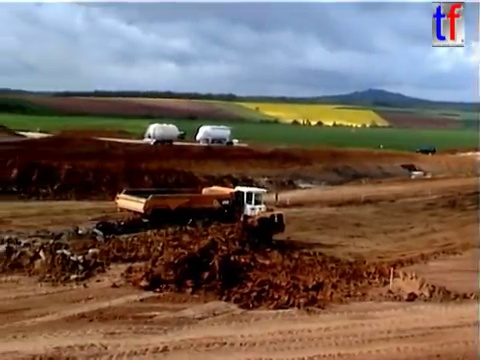truck: (112, 181, 282, 232), (194, 122, 241, 148), (141, 121, 187, 147)
